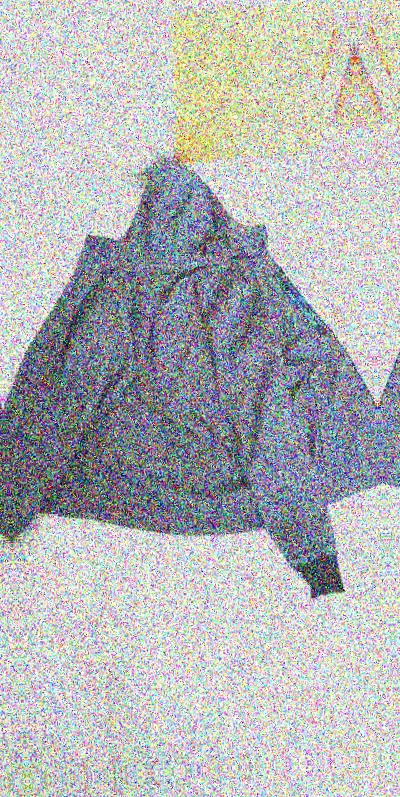Hoodie: (0, 114, 386, 646), (365, 89, 400, 622), (0, 138, 14, 671)
